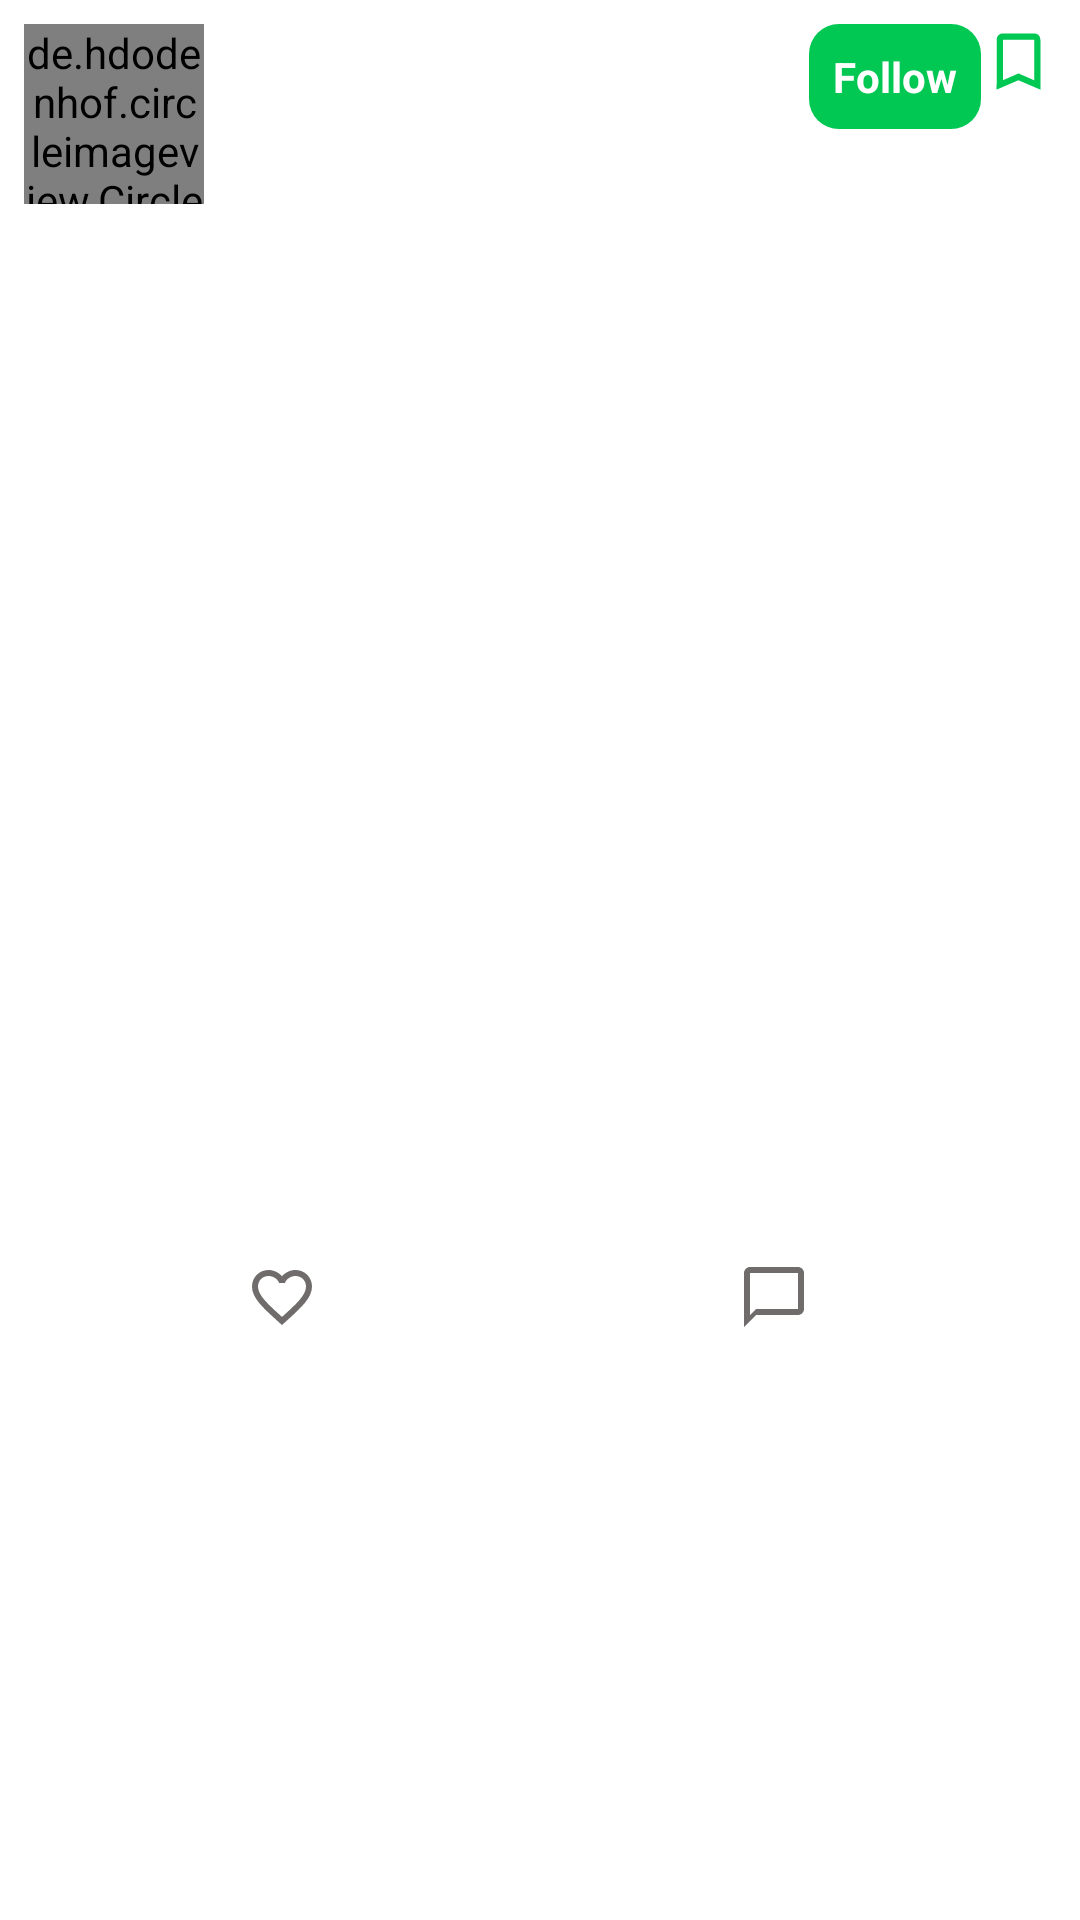

Named icons in this screenshot (1080px×1920px) and their bounding boxes, (x1, y1, x2, y2):
bookmark: (996, 33, 1041, 90)
comment: (744, 1267, 804, 1327)
favorite: (252, 1270, 312, 1325)
